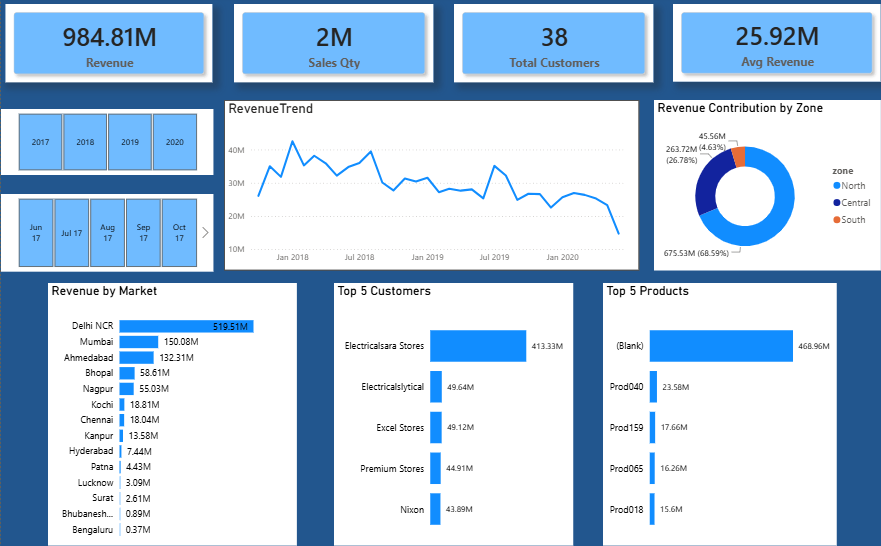

The dashboard page shown, as its layout file describes it:
{"tool":"powerbi","page":{"name":"Page 1","canvas":[1280,800],"ordinal":0},"visuals":[{"type":"clusteredBarChart","title":"Revenue by Market","fields":{"Category":["markets.markets_name"],"Y":["BaseMeasure.Revenue"]},"box":[68.6,418,362.4,382],"z":0},{"type":"slicer","fields":{"Values":["date.year"]},"box":[0,164.9,308.6,96.3],"z":1000},{"type":"slicer","fields":{"Values":["date.cy_date"]},"box":[0,287.3,308.6,112.7],"z":2000},{"type":"clusteredBarChart","title":"Top 5 Customers","fields":{"Category":["customers.custmer_name"],"Y":["BaseMeasure.Revenue"]},"box":[484.9,418,347.8,382],"z":3000},{"type":"clusteredBarChart","title":"Top 5 Products","fields":{"Category":["products.product_code"],"Y":["BaseMeasure.Revenue"]},"box":[875.1,418,339.6,382],"z":4000},{"type":"lineChart","title":"RevenueTrend","fields":{"Y":["BaseMeasure.Revenue"],"Category":["date.cy_date.Variation.Date Hierarchy.Year","date.cy_date.Variation.Date Hierarchy.Month"]},"box":[324.9,151.8,604.1,248.2],"z":5000},{"type":"cardVisual","fields":{"Data":["BaseMeasure.Avg Revenue"]},"box":[977.5,11.6,302.5,113.5],"z":6000},{"type":"cardVisual","fields":{"Data":["BaseMeasure.Total Customers"]},"box":[658.9,11.6,290.6,114.3],"z":7000},{"type":"cardVisual","fields":{"Data":["BaseMeasure.Sales Qty"]},"box":[338.9,11.6,290.6,114.3],"z":8000},{"type":"cardVisual","fields":{"Data":["BaseMeasure.Revenue"]},"box":[1.5,11.6,306.9,114.3],"z":9000},{"type":"donutChart","title":"Revenue Contribution by Zone","fields":{"Category":["markets.zone"],"Y":["BaseMeasure.Revenue"]},"box":[950.2,151.8,329.8,248.2],"z":10000}]}

Visuals, with their boxes in screenshot pixels (x1, y1, x2, y2), scaled from the page's 1280x800 canvas onto the 881x546 screenshot:
"Revenue by Market" clusteredBarChart: bbox(47, 285, 297, 545)
slicer - date.year: bbox(0, 113, 212, 178)
slicer - date.cy_date: bbox(0, 196, 212, 273)
"Top 5 Customers" clusteredBarChart: bbox(334, 285, 573, 545)
"Top 5 Products" clusteredBarChart: bbox(602, 285, 836, 545)
"RevenueTrend" lineChart: bbox(224, 104, 639, 273)
cardVisual - BaseMeasure.Avg Revenue: bbox(673, 8, 880, 85)
cardVisual - BaseMeasure.Total Customers: bbox(454, 8, 654, 86)
cardVisual - BaseMeasure.Sales Qty: bbox(233, 8, 433, 86)
cardVisual - BaseMeasure.Revenue: bbox(1, 8, 212, 86)
"Revenue Contribution by Zone" donutChart: bbox(654, 104, 880, 273)
